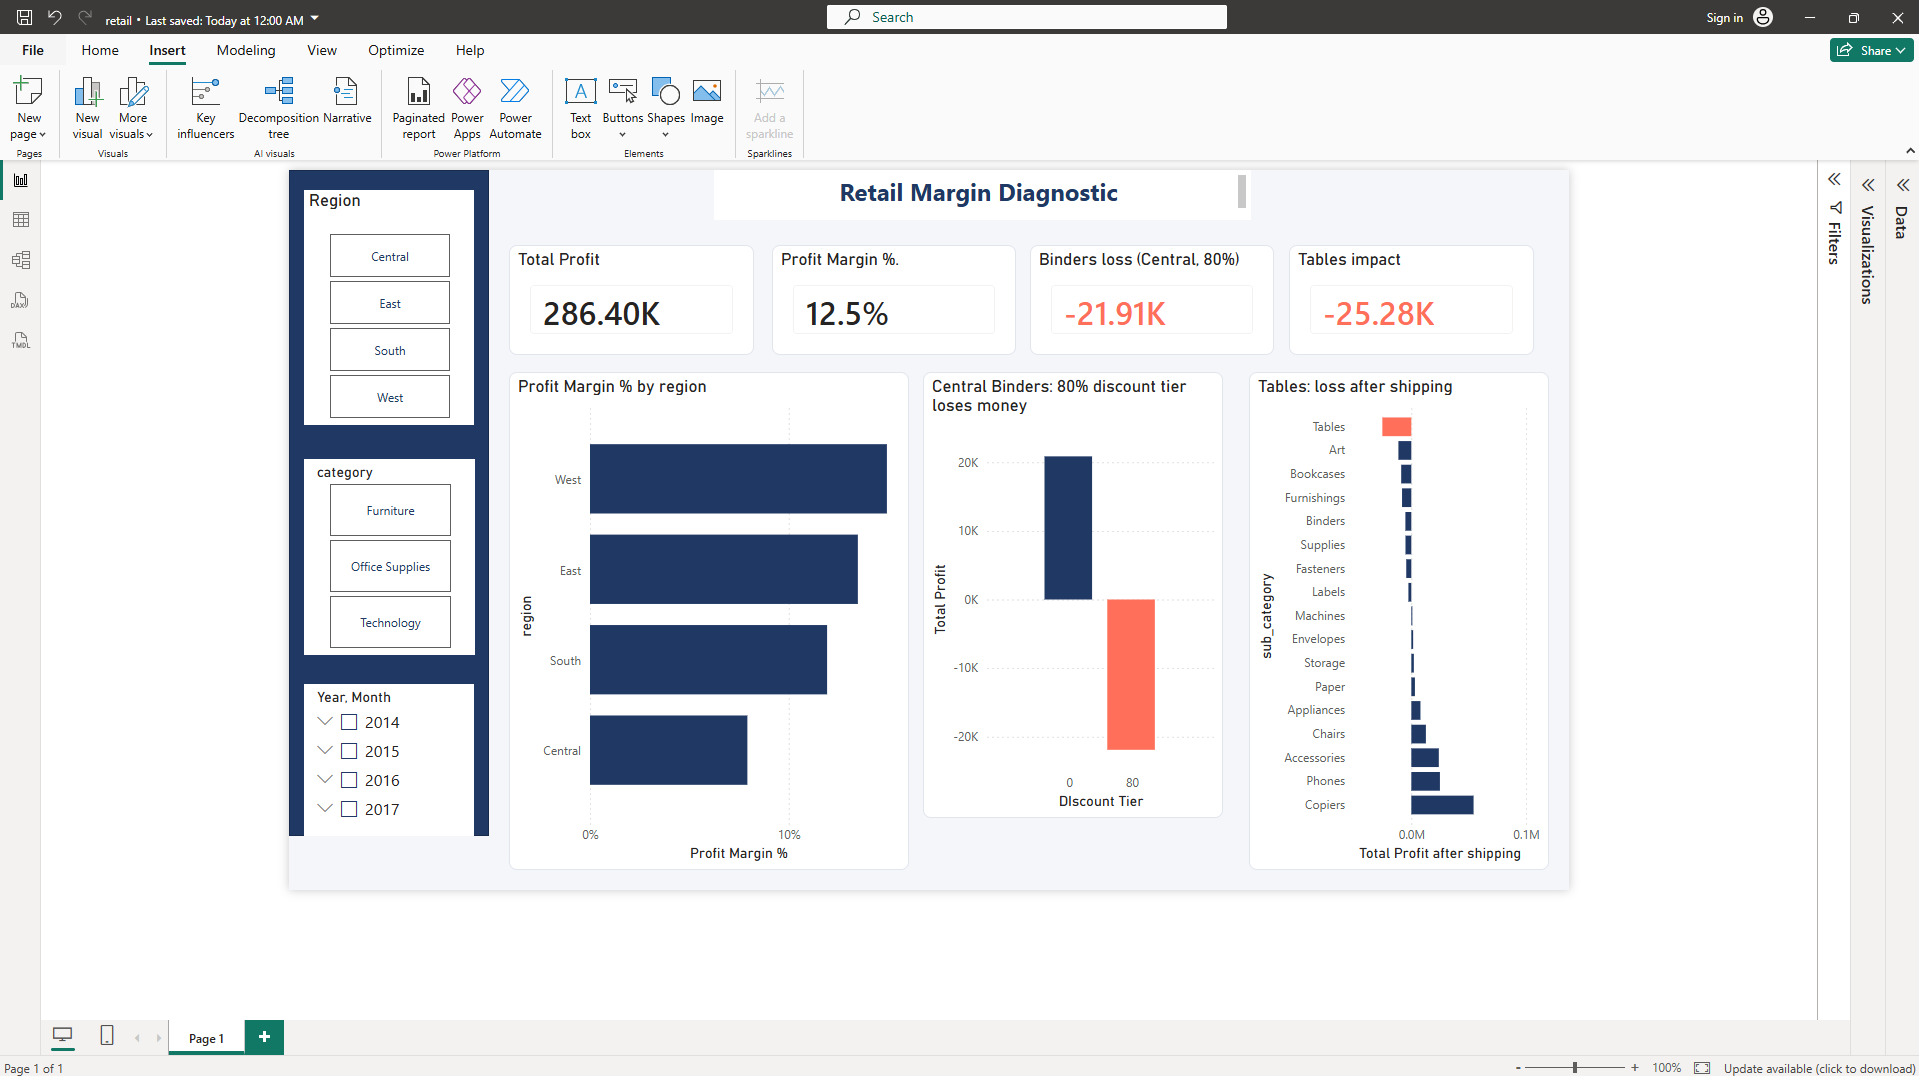

The dashboard page shown, as its layout file describes it:
{"tool":"powerbi","page":{"name":"Page 1","canvas":[1280,720],"ordinal":0},"visuals":[{"type":"clusteredBarChart","fields":{"Category":["retail orders.region","retail orders.category"],"Y":["retail orders.Profit Margin %"]},"box":[220,201.8,400,498.2],"z":0},{"type":"clusteredColumnChart","title":"Central Binders: 80% discount tier loses money","fields":{"Category":["retail orders.DIscount Tier"],"Y":["retail orders.Total Profit"]},"box":[633.6,201.8,300,446.4],"z":1000},{"type":"clusteredBarChart","title":"Tables: loss after shipping","fields":{"Category":["retail orders.sub_category"],"Y":["retail orders.Total Profit after shipping"]},"box":[960,201.8,300,498.2],"z":2000},{"type":"cardVisual","title":"Total Profit","fields":{"Data":["retail orders.Total Profit"]},"box":[220,75.5,245.5,110],"z":3000},{"type":"cardVisual","title":"Profit Margin %.","fields":{"Data":["retail orders.Profit Margin %"]},"box":[482.7,75.5,244.5,110],"z":4000},{"type":"cardVisual","title":"Binders loss (Central, 80%)","fields":{"Data":["retail orders.Total Profit"]},"box":[740.9,75.5,244.5,110],"z":5000},{"type":"cardVisual","title":"Tables impact","fields":{"Data":["retail orders.Total Profit after shipping"]},"box":[1000,75.5,244.5,110],"z":6000},{"type":"shape","box":[0,0,200,666],"z":6001},{"type":"slicer","title":"Region","fields":{"Values":["retail orders.region"]},"box":[15.5,20,170,235.5],"z":6002},{"type":"slicer","fields":{"Values":["retail orders.category"]},"box":[15.5,289,170.3,196.1],"z":6003},{"type":"slicer","fields":{"Values":["retail orders.order_date_clean.Variation.Date Hierarchy.Year","retail orders.order_date_clean.Variation.Date Hierarchy.Month"]},"box":[15,513.6,170,152],"z":6004},{"type":"textbox","box":[425,0,536.8,49.9],"z":6005}]}

Visuals, with their boxes on the page's 1280x720 design canvas (x1, y1, x2, y2). These are canvas units, not pixel positions in the 1919x1076 screenshot, which may show the page scaled, cropped or inside an application window:
clusteredBarChart - retail orders.region x retail orders.category: <region>220, 202, 620, 700</region>
"Central Binders: 80% discount tier loses money" clusteredColumnChart: <region>634, 202, 934, 648</region>
"Tables: loss after shipping" clusteredBarChart: <region>960, 202, 1260, 700</region>
"Total Profit" cardVisual: <region>220, 76, 466, 186</region>
"Profit Margin %." cardVisual: <region>483, 76, 727, 186</region>
"Binders loss (Central, 80%)" cardVisual: <region>741, 76, 985, 186</region>
"Tables impact" cardVisual: <region>1000, 76, 1244, 186</region>
shape: <region>0, 0, 200, 666</region>
"Region" slicer: <region>16, 20, 186, 256</region>
slicer - retail orders.category: <region>16, 289, 186, 485</region>
slicer - retail orders.order_date_clean.Variation.Date Hierarchy.Year x retail orders.order_date_clean.Variation.Date Hierarchy.Month: <region>15, 514, 185, 666</region>
textbox: <region>425, 0, 962, 50</region>
